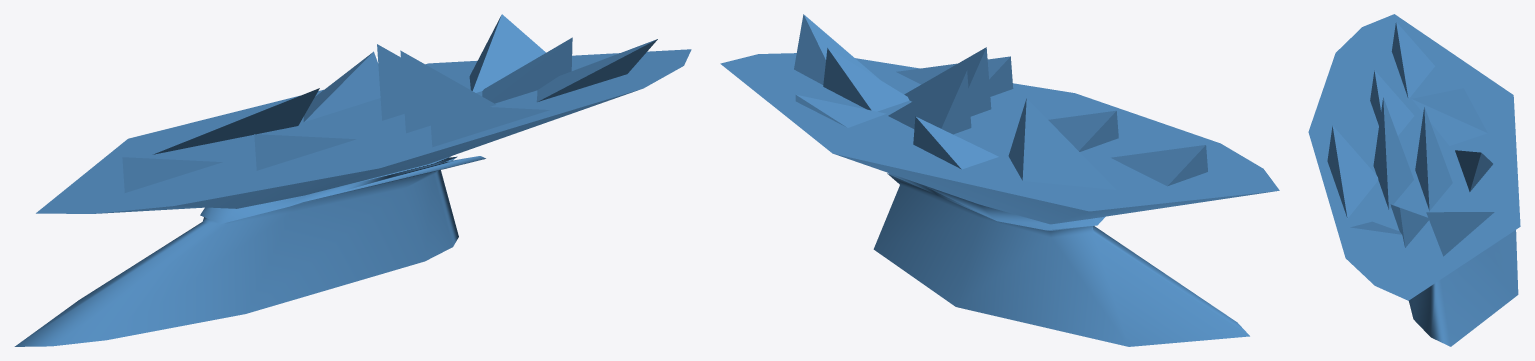
The model's file is ShortColumn.fbx.
3 renders of one model, left to right at view 1: azimuth 30°, elevation 25°; view 2: azimuth 150°, elevation 25°; view 3: azimuth 270°, elevation 25°, orthographic. The views are drawn at different scales.
Visible parts, largest first — view 1: SmalliceBarrier1; view 2: SmalliceBarrier1; view 3: SmalliceBarrier1.
Boxes of the visible parts, <box> form: SmalliceBarrier1: <box>14,14,691,346</box>; SmalliceBarrier1: <box>720,14,1279,346</box>; SmalliceBarrier1: <box>1308,14,1520,346</box>.
Bounding box in the file's own units: 47.4 × 16.76 × 14.98.
